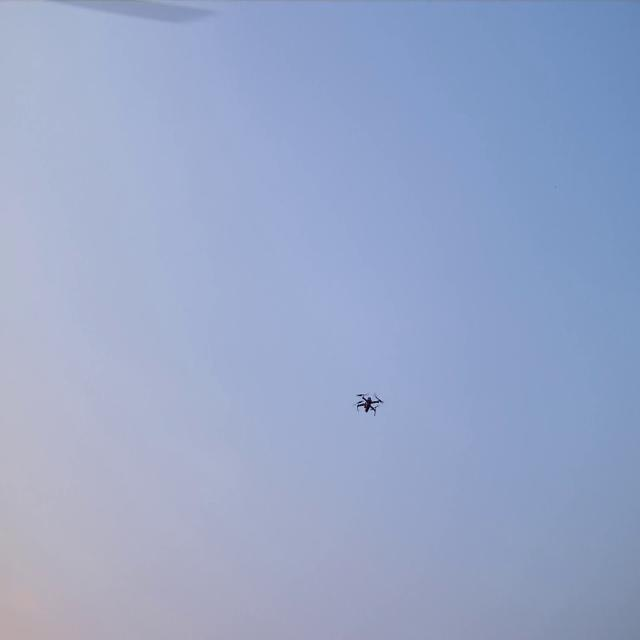UAV: (351, 390, 385, 418)
